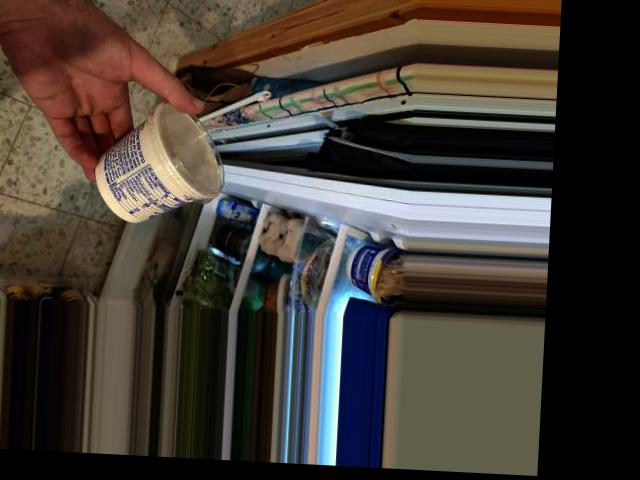cotage: (106, 108, 227, 223)
